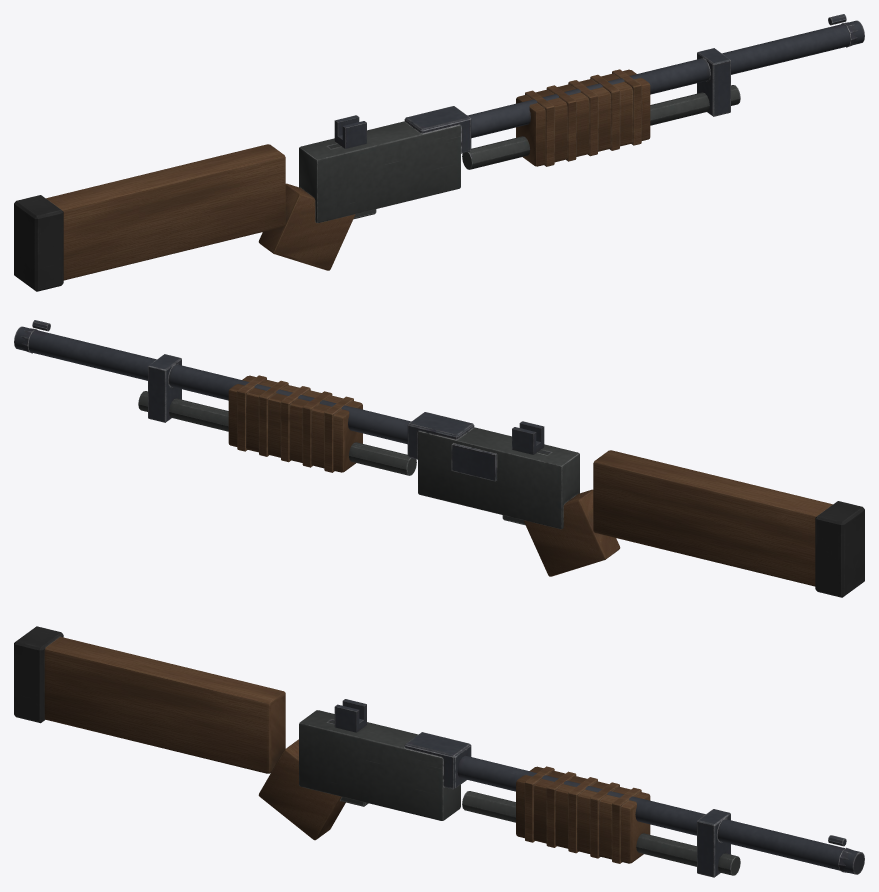
File: weapon_shotgun.glb
3 views of the same model, one above another, from view 1: azimuth 30°, elevation 25°; view 2: azimuth 150°, elevation 25°; view 3: azimuth 330°, elevation 25° (orthographic).
Parts seen in each view (by area): view 1: Body, DefaultStock, DefaultBarrel, DefaultMag, IronSights; view 2: Body, DefaultStock, DefaultBarrel, DefaultMag, IronSights; view 3: Body, DefaultStock, DefaultBarrel, DefaultMag, IronSights.
Boxes of the visible parts, x1,y1,x2,y2 form: Body: (258, 69, 650, 270); DefaultStock: (14, 144, 285, 291); DefaultBarrel: (467, 20, 864, 138); DefaultMag: (462, 85, 740, 169); IronSights: (334, 14, 846, 148); Body: (228, 375, 620, 576); DefaultStock: (593, 450, 864, 597); DefaultBarrel: (14, 326, 411, 444); DefaultMag: (138, 391, 416, 475); IronSights: (32, 320, 544, 454); Body: (258, 710, 650, 863); DefaultStock: (14, 626, 285, 773); DefaultBarrel: (457, 755, 864, 877); DefaultMag: (462, 791, 740, 875); IronSights: (334, 699, 846, 846).
Bounding box in the file's own units: 1.15 × 0.1803 × 0.055.
Materials: 1 (1 with a texture image).
